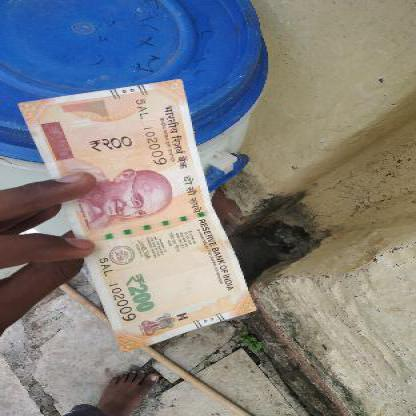New200Front: (35, 84, 236, 334)
